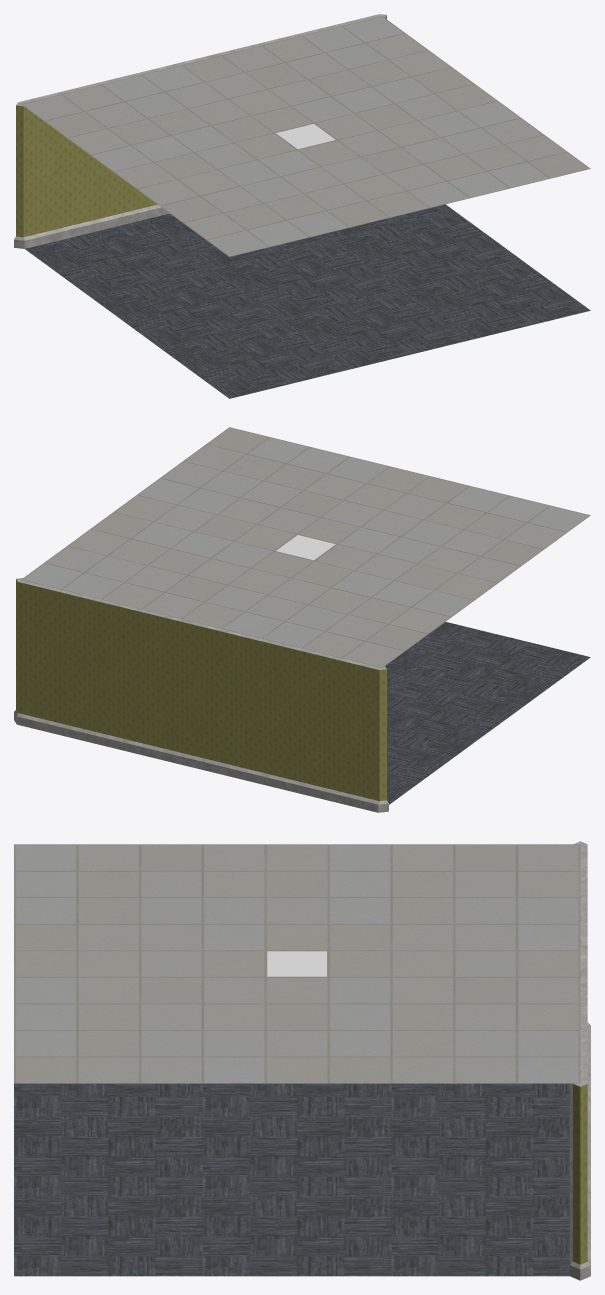
The model's file is BackroomsTile.fbx.
3 renders of one model, top to bottom at view 1: azimuth 30°, elevation 25°; view 2: azimuth 150°, elevation 25°; view 3: azimuth 270°, elevation 25°, orthographic. The views are drawn at different scales.
Parts seen in each view (by area): view 1: Ceiling, Floor, Wall; view 2: Ceiling, Wall, Floor; view 3: Ceiling, Floor, Wall.
Boxes of the visible parts, x1=… form: Ceiling: x1=21, y1=16, x2=590, y2=256; Floor: x1=25, y1=204, x2=590, y2=398; Wall: x1=14, y1=14, x2=386, y2=248; Ceiling: x1=21, y1=427, x2=590, y2=667; Wall: x1=14, y1=578, x2=388, y2=812; Floor: x1=385, y1=622, x2=590, y2=804; Ceiling: x1=14, y1=844, x2=580, y2=1083; Floor: x1=14, y1=1083, x2=569, y2=1276; Wall: x1=569, y1=841, x2=590, y2=1280.
Bounding box in the file's own units: 815 × 830 × 300.
